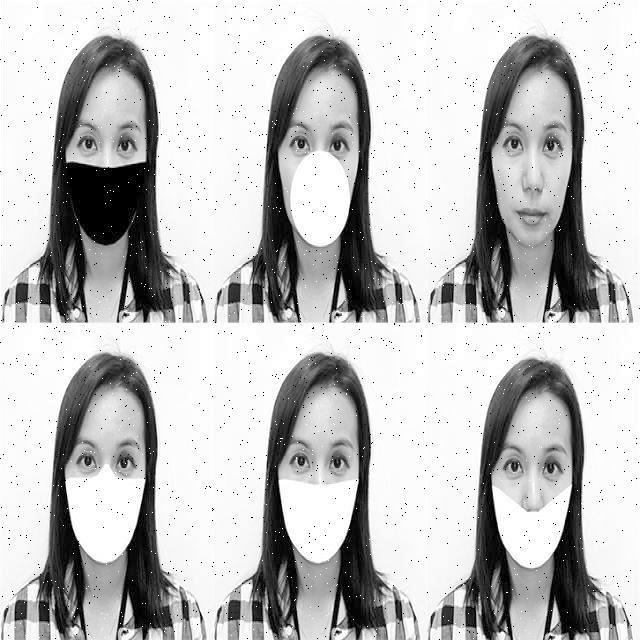mask: (279, 162, 371, 244), (268, 477, 350, 562), (66, 464, 140, 550), (74, 160, 142, 222), (498, 493, 568, 551)
no_gloves: (242, 43, 372, 112), (466, 26, 574, 105), (47, 31, 162, 102), (472, 356, 586, 422), (60, 348, 154, 426), (270, 342, 371, 399)
no_hairnet: (484, 170, 568, 240)
